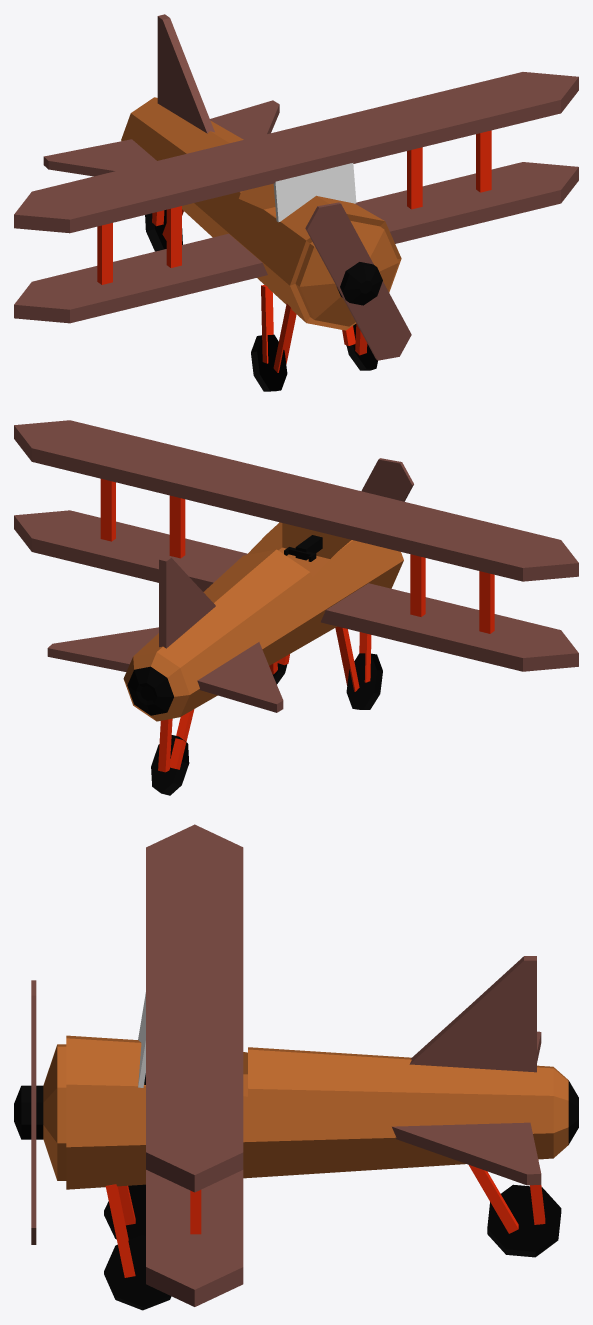
Rendered from Airplane.fbx.
3 renders of one model, top to bottom at view 1: azimuth 30°, elevation 25°; view 2: azimuth 150°, elevation 25°; view 3: azimuth 270°, elevation 25°, orthographic. The views are drawn at different scales.
Parts seen in each view (by area): view 1: Plane.001, Plane, Cylinder, Plane.004, Cube, top, Plane.002, top.001, top.002, Cube.004, Circle.001, Circle.002 (+1 smaller); view 2: Plane.001, Cylinder, Plane, Cube, top.001, top, top.002, Plane.004, Circle.001, Cube.005, Cube.004, Circle.002; view 3: Cylinder, Plane.001, Plane, top, top.002, Circle.002, Circle, Plane.004, Cube.005, Cube.003, Circle.001.
Boxes of the visible parts, x1,y1,x2,y2 form: Plane.001: [14, 72, 578, 233]; Plane: [14, 162, 578, 323]; Cylinder: [121, 97, 401, 330]; Plane.004: [305, 202, 411, 360]; Cube: [97, 130, 491, 284]; top: [157, 14, 214, 133]; Plane.002: [273, 163, 356, 222]; top.001: [43, 139, 156, 176]; top.002: [210, 100, 279, 139]; Cube.004: [261, 285, 296, 372]; Circle.001: [251, 334, 287, 391]; Circle.002: [145, 209, 182, 251]; Plane.001: [14, 420, 578, 581]; Cylinder: [123, 522, 403, 721]; Plane: [14, 510, 578, 671]; Cube: [100, 479, 494, 633]; top.001: [197, 642, 283, 712]; top: [159, 556, 215, 648]; top.002: [47, 627, 158, 671]; Plane.004: [361, 458, 413, 501]; Circle.001: [346, 653, 382, 709]; Cube.005: [158, 709, 194, 772]; Cube.004: [335, 626, 371, 691]; Circle.002: [151, 735, 189, 795]; Cylinder: [14, 1035, 578, 1189]; Plane.001: [146, 824, 243, 1192]; Plane: [146, 1170, 243, 1306]; top: [409, 956, 536, 1072]; top.002: [392, 1122, 541, 1185]; Circle.002: [487, 1184, 561, 1257]; Circle: [104, 1235, 171, 1310]; Plane.004: [31, 980, 36, 1244]; Cube.005: [469, 1165, 545, 1233]; Cube.003: [105, 1184, 135, 1277]; Circle.001: [104, 1184, 145, 1239].
Size of the model in its own units: 1012 by 432 by 689.
